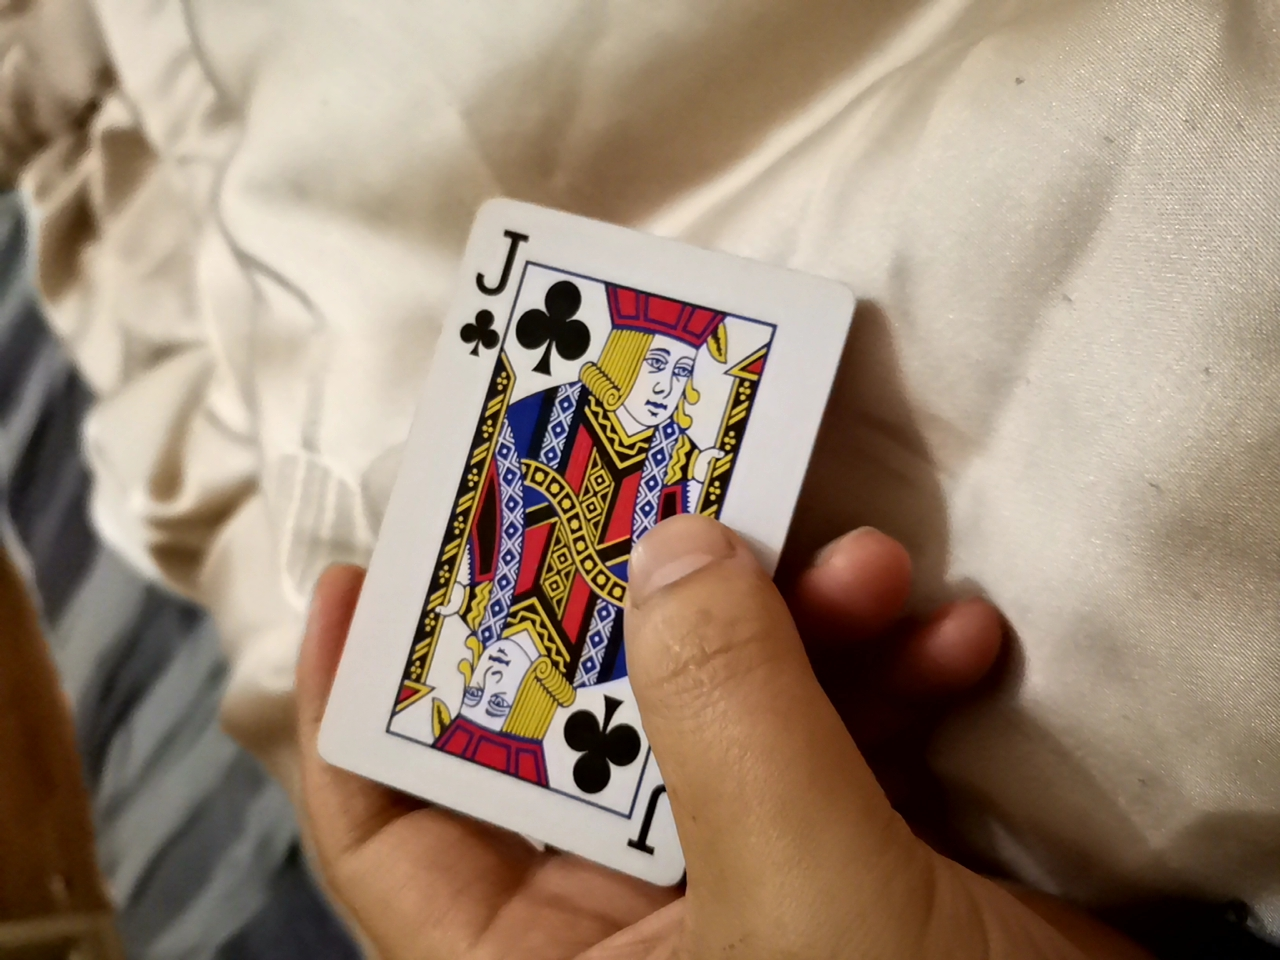mh j: (311, 173, 826, 888)
